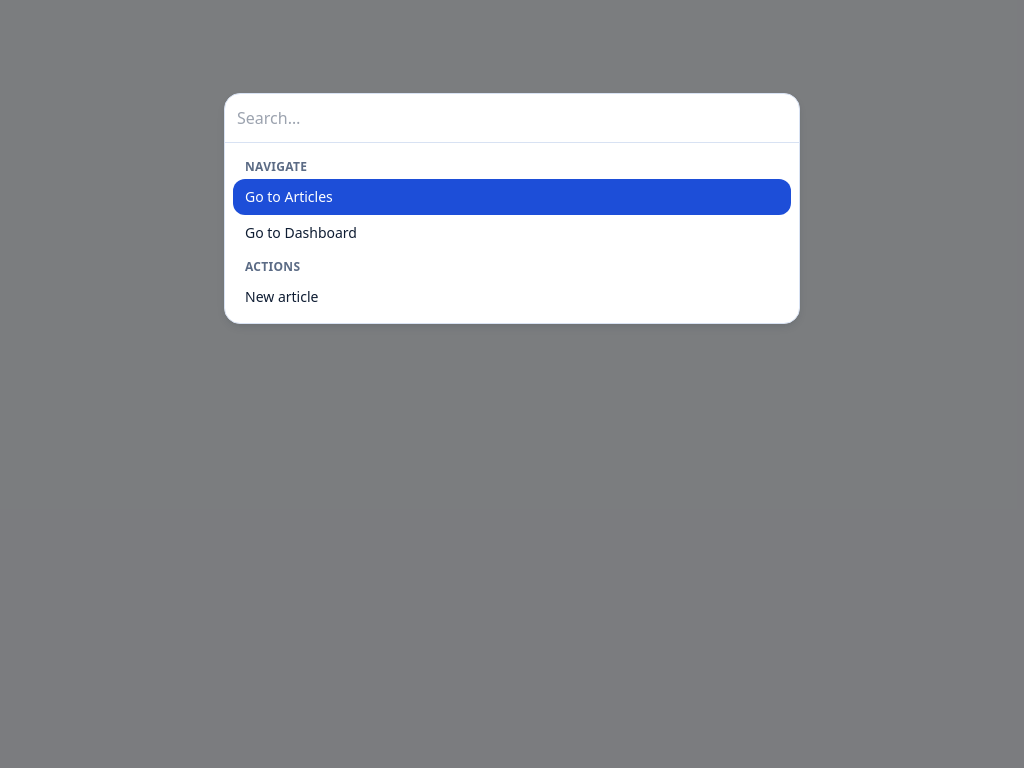
Test: <CommandPalette /> › filters by the typed query
Type "dashboard" into the dropdown. click: [512, 118]
box: [237,106,787,130]
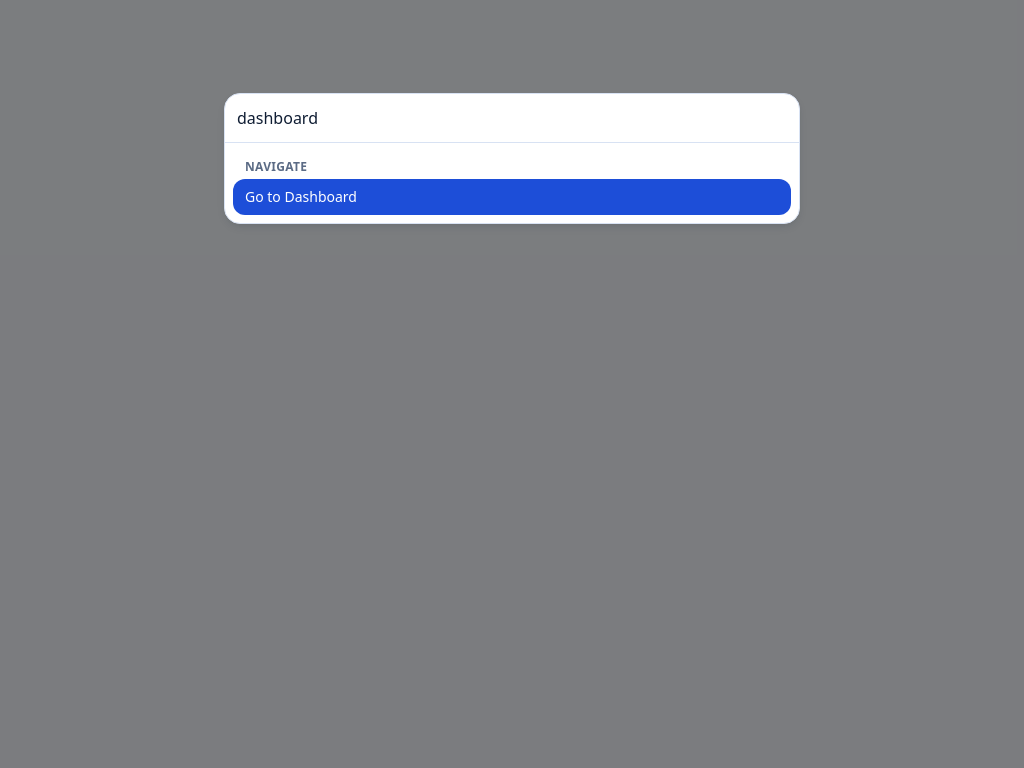
Expected: the option "Go to Dashboard" is shown, [233,179,791,215]
Now the option "New article" is gone
